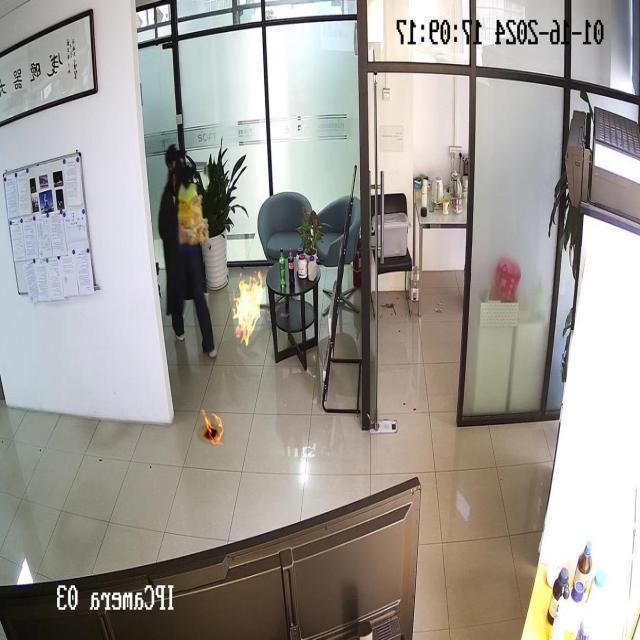smoke: (231, 270, 264, 348), (200, 407, 224, 442)
